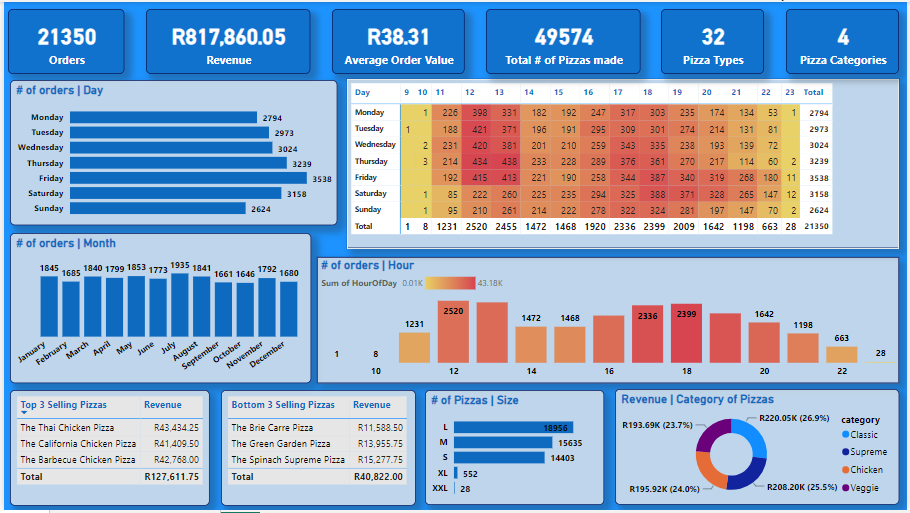

Layout of this report page (visuals, bound fields, positions):
{"tool":"powerbi","page":{"name":"Dashboard","canvas":[1280,720],"ordinal":0},"visuals":[{"type":"card","fields":{"Values":["Measures Table.Total Order"]},"box":[6.3,9.4,164.5,92.4],"z":0},{"type":"card","fields":{"Values":["Measures Table.Total Revenue"]},"box":[200.9,9.4,233.4,92.4],"z":1000},{"type":"card","fields":{"Values":["Measures Table.Average Order Value"]},"box":[464.4,9.4,188,92.4],"z":2000},{"type":"clusteredBarChart","title":"# of orders | Day","fields":{"Category":["orders.DayOfWeekName"],"Y":["Count(order_details.order_id)"]},"box":[8.2,110.2,463.9,206],"z":3000},{"type":"clusteredColumnChart","title":"# of orders | Month","fields":{"Category":["orders.MonthName"],"Y":["CountNonNull(orders.order_id)"]},"box":[8.5,327.4,426.6,212.6],"z":4000},{"type":"clusteredColumnChart","title":"# of orders | Hour","fields":{"Category":["orders.HourOfDay"],"Y":["Count(orders.order_id)"]},"box":[443.6,361.4,824.9,178.6],"z":5000},{"type":"pivotTable","fields":{"Rows":["orders.DayOfWeekName"],"Columns":["orders.HourOfDay"],"Values":["CountNonNull(orders.order_id)"]},"box":[485.7,109.7,783.4,239.7],"z":6000},{"type":"card","fields":{"Values":["Measures Table.Total # of Pizzas mase"]},"box":[682.5,9.4,219.3,92.4],"z":7000},{"type":"donutChart","title":"Revenue | Category of Pizzas","fields":{"Category":["pizza_types.category"],"Y":["Measures Table.Total Revenue"]},"box":[866,548.5,402.5,164.4],"z":8000},{"type":"card","fields":{"Values":["CountNonNull(pizza_types.name)"]},"box":[931.9,9.4,145.7,92.4],"z":9000},{"type":"tableEx","fields":{"Values":["pizza_types.name","Measures Table.Total Revenue"]},"box":[8.5,549.9,283.5,164.4],"z":10000},{"type":"tableEx","fields":{"Values":["pizza_types.name","Measures Table.Total Revenue"]},"box":[307.6,549.9,276.4,164.4],"z":11000},{"type":"card","fields":{"Values":["Count(order_details.quantity)"]},"box":[1107.7,9.4,159.8,92.4],"z":12000},{"type":"clusteredBarChart","title":"# of Pizzas | Size ","fields":{"Category":["pizzas.size"],"Y":["Sum(order_details.quantity)"]},"box":[596.7,549.9,253.7,163],"z":13000}]}

Visuals, with their boxes in screenshot pixels (x1, y1, x2, y2), scaled from the page's 1280x720 canvas onto the 910x513 screenshot:
card - Measures Table.Total Order: 4, 7, 121, 73
card - Measures Table.Total Revenue: 143, 7, 309, 73
card - Measures Table.Average Order Value: 330, 7, 464, 73
"# of orders | Day" clusteredBarChart: 6, 79, 336, 225
"# of orders | Month" clusteredColumnChart: 6, 233, 309, 385
"# of orders | Hour" clusteredColumnChart: 315, 257, 902, 385
pivotTable - orders.DayOfWeekName x orders.HourOfDay: 345, 78, 902, 249
card - Measures Table.Total # of Pizzas mase: 485, 7, 641, 73
"Revenue | Category of Pizzas" donutChart: 616, 391, 902, 508
card - CountNonNull(pizza_types.name): 663, 7, 766, 73
tableEx - pizza_types.name x Measures Table.Total Revenue: 6, 392, 208, 509
tableEx - pizza_types.name x Measures Table.Total Revenue: 219, 392, 415, 509
card - Count(order_details.quantity): 788, 7, 901, 73
"# of Pizzas | Size " clusteredBarChart: 424, 392, 605, 508
